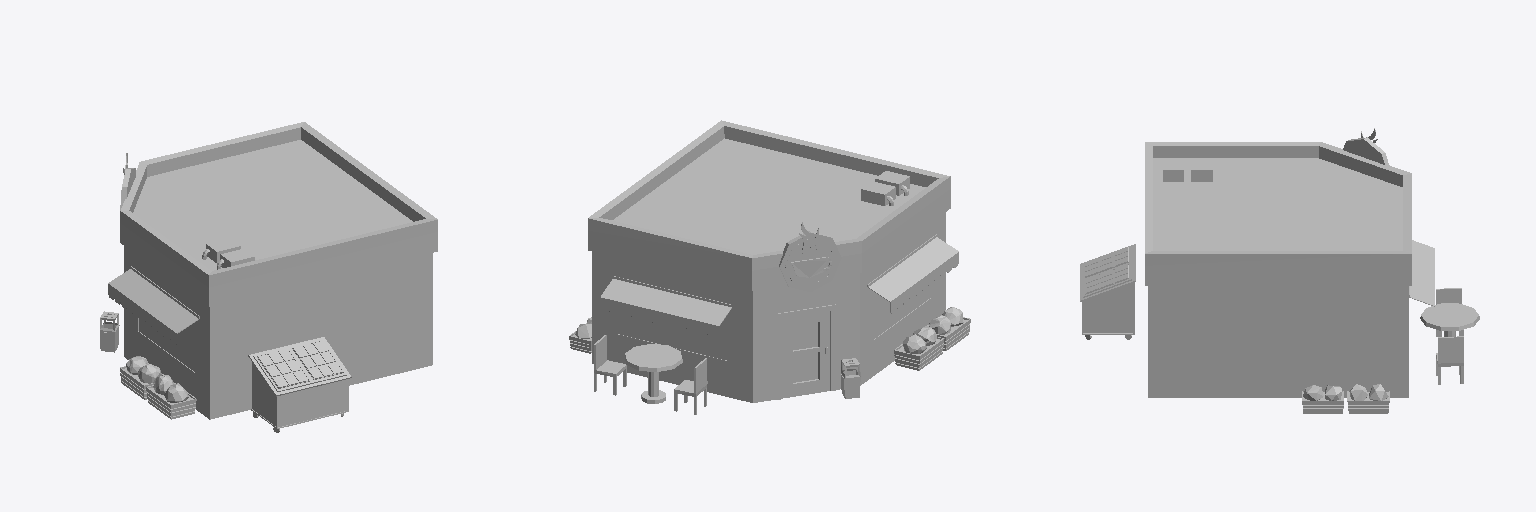
File: caffe.obj
3 views of the same model, side by side, from view 1: azimuth 30°, elevation 25°; view 2: azimuth 150°, elevation 25°; view 3: azimuth 270°, elevation 25° (orthographic).
Visible parts, largest first — view 1: Tetto.004, Casa, Dumpster, Tenda.004, Vasi_e_Cespugli.001, Bin.004; view 2: Tetto.004, Casa, Tenda.003, Tenda.004, Vasi_e_Cespugli.001, Logo, Table, Chair2, Chair, Bin.004, Cassetta2, HotCoffee; view 3: Tetto.004, Casa, Dumpster, Table, Tenda.003, Vasi_e_Cespugli.007, Vasi_e_Cespugli.008, Chair2, Logo, Cassetta2.
Part boxes in pixels (bbox=[...]): Tetto.004: bbox=[120, 122, 437, 306]; Casa: bbox=[124, 246, 432, 419]; Dumpster: bbox=[248, 337, 351, 432]; Tenda.004: bbox=[108, 266, 199, 345]; Vasi_e_Cespugli.001: bbox=[120, 356, 196, 419]; Bin.004: bbox=[100, 311, 119, 352]; Tetto.004: bbox=[588, 120, 950, 290]; Casa: bbox=[592, 212, 945, 402]; Tenda.003: bbox=[600, 276, 731, 338]; Tenda.004: bbox=[867, 234, 958, 313]; Vasi_e_Cespugli.001: bbox=[894, 307, 970, 370]; Logo: bbox=[779, 231, 841, 291]; Table: bbox=[625, 344, 682, 403]; Chair2: bbox=[594, 335, 626, 395]; Chair: bbox=[674, 358, 707, 414]; Bin.004: bbox=[841, 358, 860, 398]; Cassetta2: bbox=[861, 181, 895, 205]; HotCoffee: bbox=[791, 257, 831, 277]; Tetto.004: bbox=[1145, 142, 1411, 285]; Casa: bbox=[1148, 286, 1408, 397]; Dumpster: bbox=[1080, 244, 1135, 339]; Table: bbox=[1420, 303, 1479, 336]; Tenda.003: bbox=[1409, 240, 1434, 306]; Vasi_e_Cespugli.007: bbox=[1302, 391, 1389, 413]; Vasi_e_Cespugli.008: bbox=[1303, 384, 1388, 400]; Chair2: bbox=[1436, 336, 1463, 384]; Logo: bbox=[1343, 137, 1388, 164]; Cassetta2: bbox=[1191, 158, 1212, 181].
Bounding box in the file's own units: 3.84 × 2.25 × 4.62.